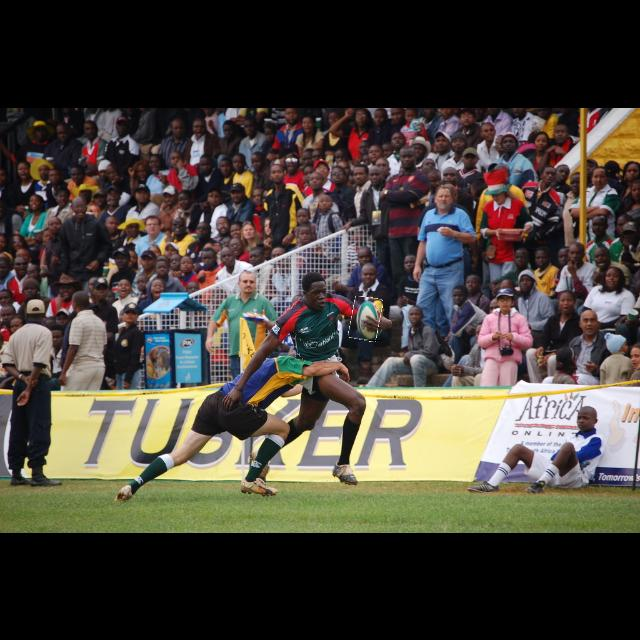Football: (350, 297, 382, 341)
